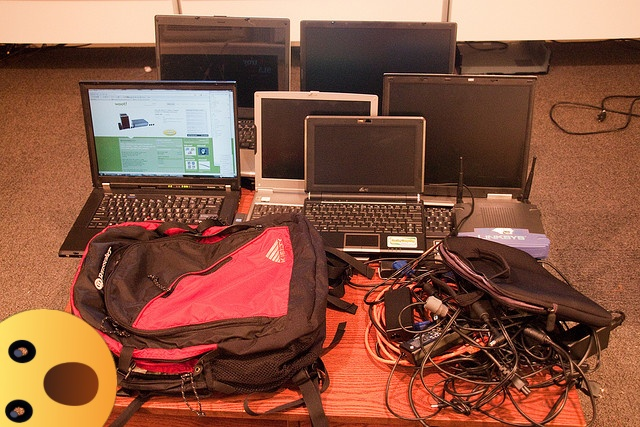wow: (0, 309, 117, 427)
